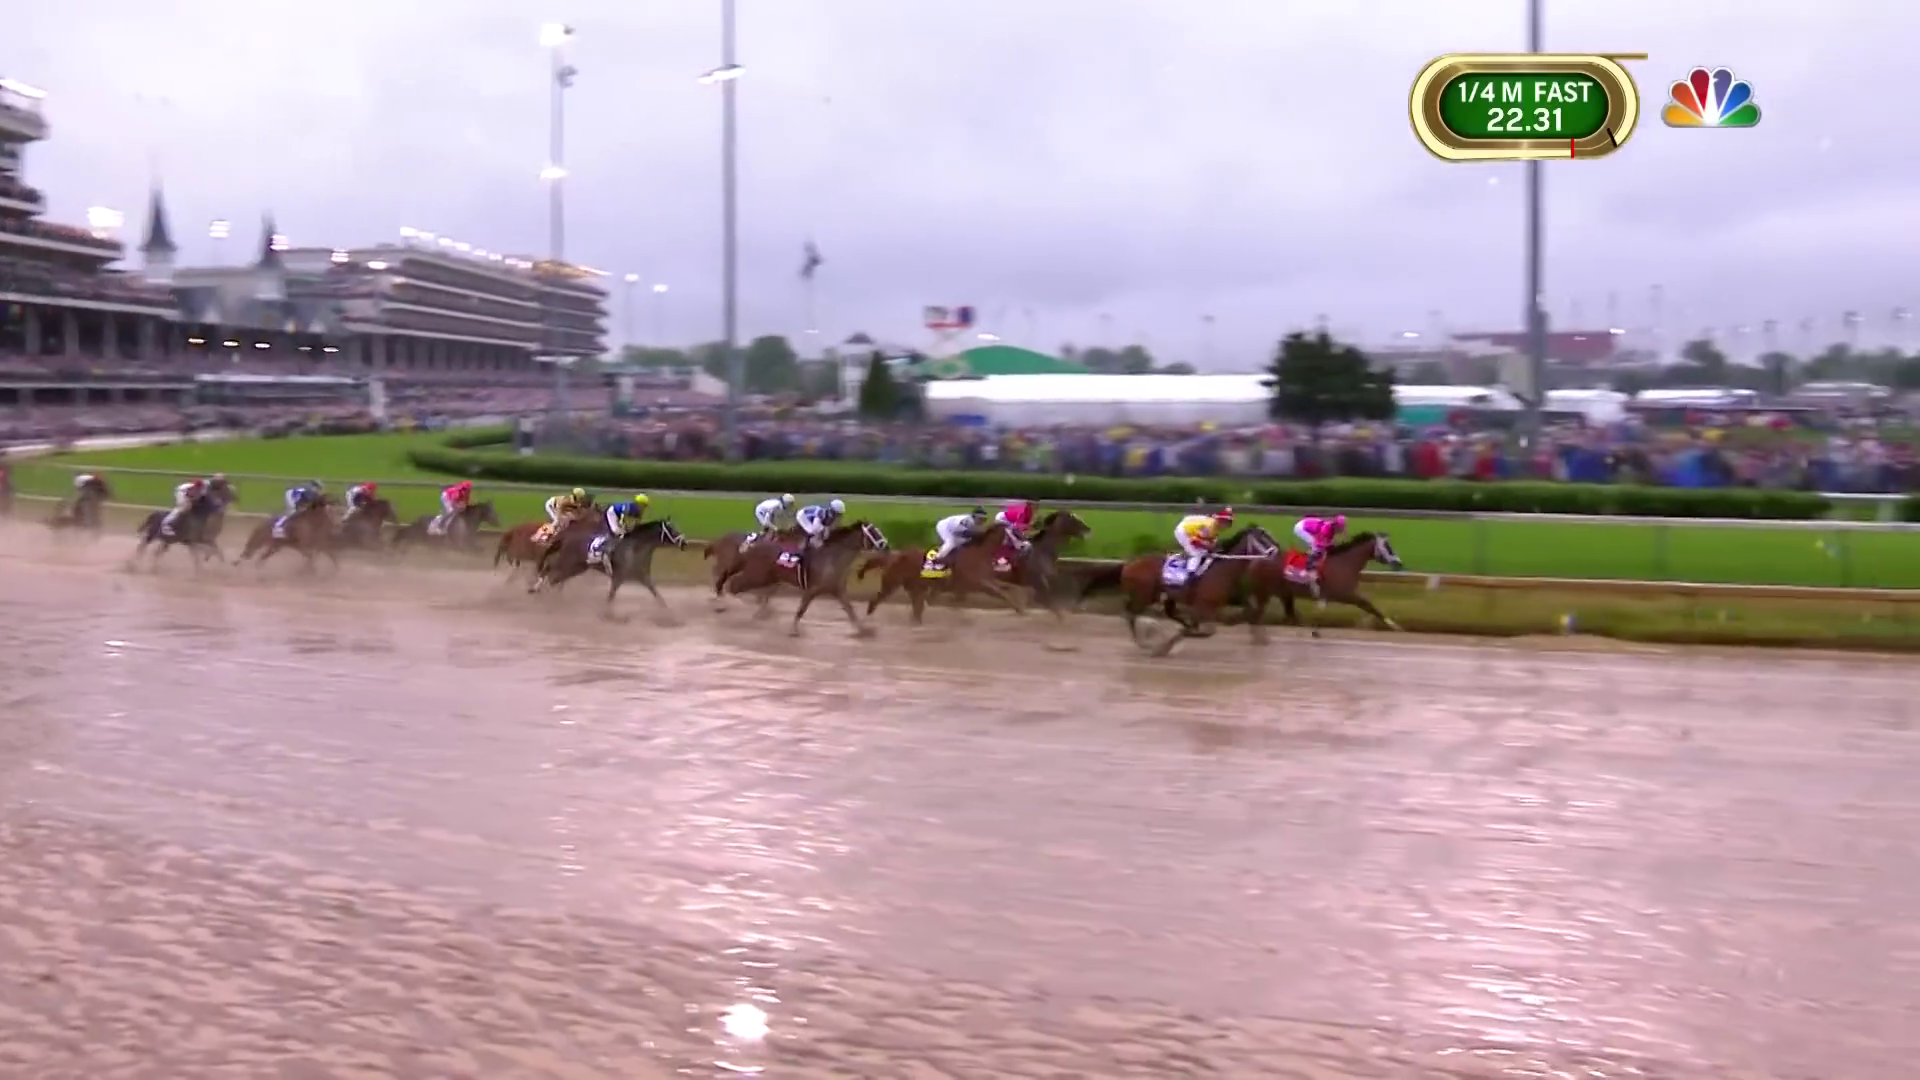jockey: (162, 472, 232, 534), (1168, 512, 1236, 564), (928, 504, 988, 562), (793, 500, 848, 556), (597, 495, 651, 550), (1294, 513, 1348, 564), (542, 483, 589, 541), (754, 491, 800, 545), (997, 496, 1043, 546), (281, 485, 319, 537), (436, 480, 475, 531), (343, 487, 375, 516)
